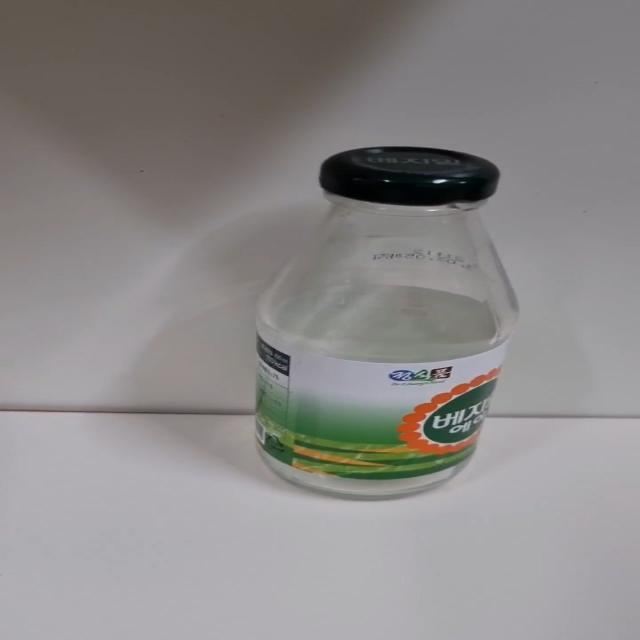Glass: (252, 146, 520, 504)
